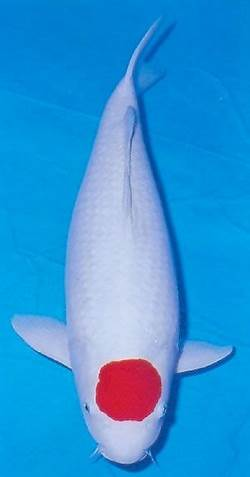sun: (9, 15, 235, 466)
